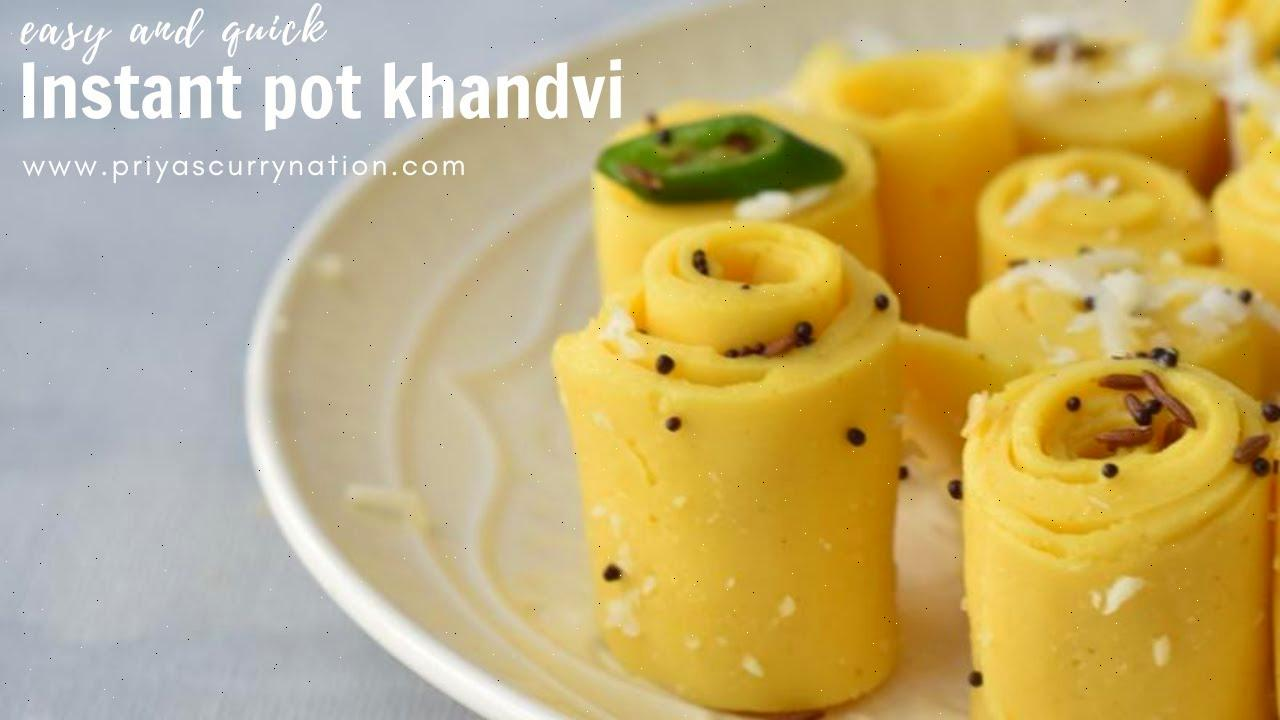khandvi: (626, 66, 1280, 720)
